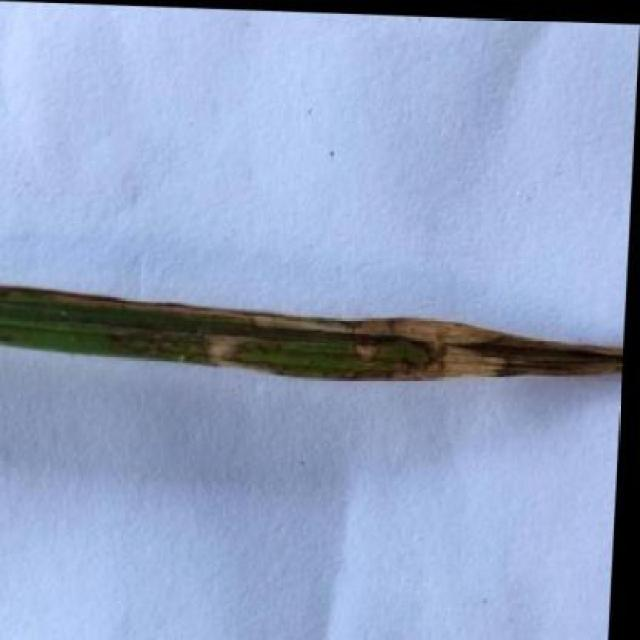Brown_Spot: (0, 273, 629, 392)
